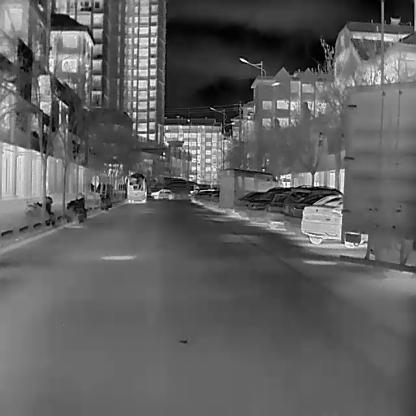bus: (126, 175, 149, 202)
car: (300, 194, 366, 247), (282, 185, 341, 238), (219, 166, 280, 210), (248, 193, 277, 225), (266, 190, 288, 230), (233, 191, 261, 220), (164, 181, 188, 199), (149, 188, 172, 199)
truck: (336, 76, 416, 266)
